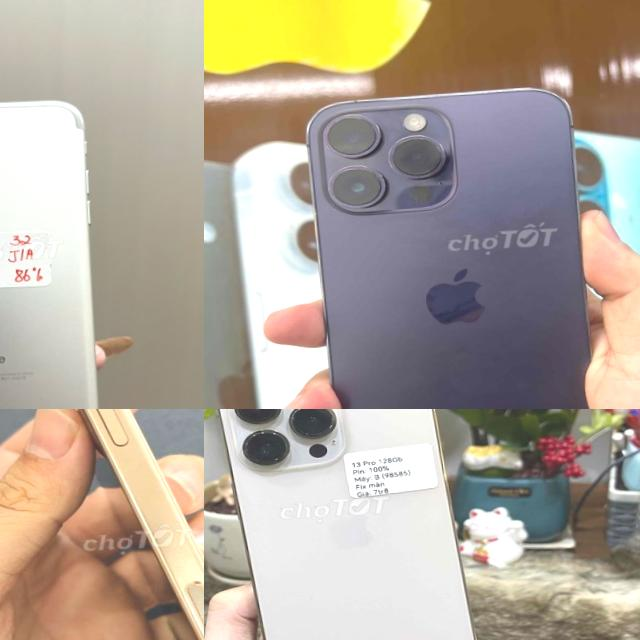gen_12_13: (213, 409, 491, 640)
gen_14: (308, 76, 620, 409)
gen_16: (80, 409, 204, 640)
gen_7_8: (0, 84, 116, 409)
